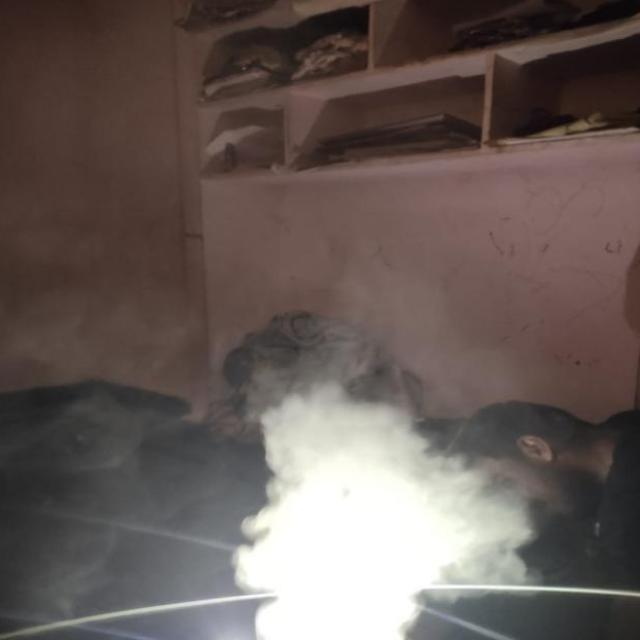fire: (227, 373, 532, 640)
